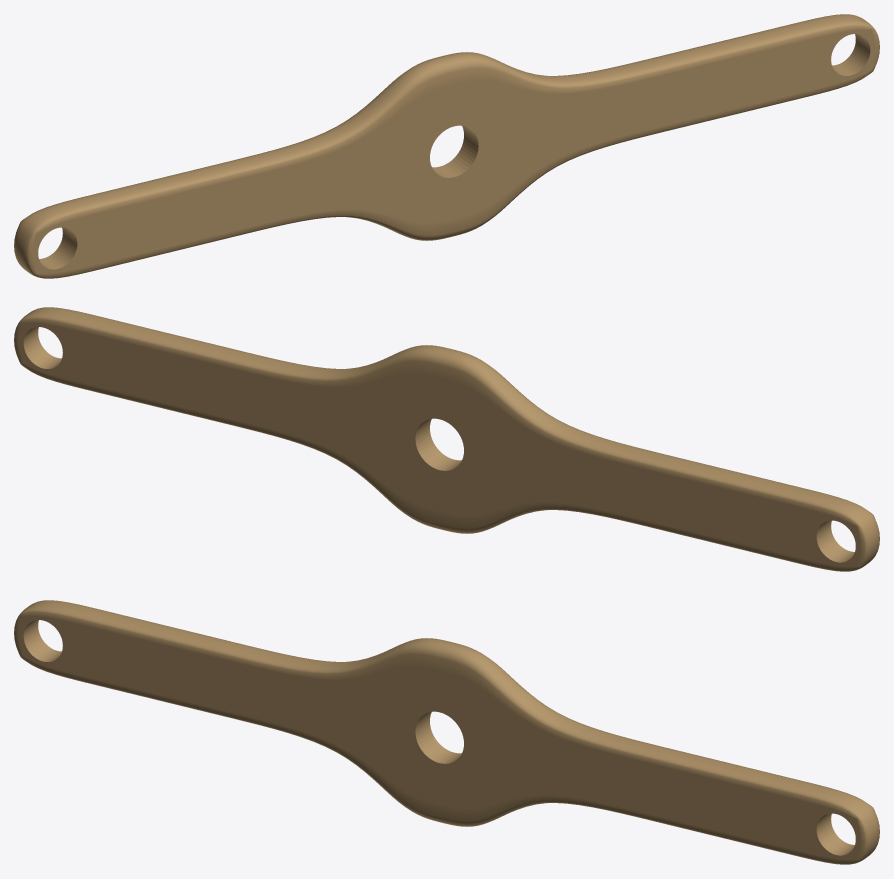
The model's file is pivot beam.glb.
3 renders of one model, top to bottom at view 1: azimuth 30°, elevation 25°; view 2: azimuth 150°, elevation 25°; view 3: azimuth 330°, elevation 25°, orthographic.
Parts seen in each view (by area): view 1: pivot_beam; view 2: pivot_beam; view 3: pivot_beam.
Part boxes in pixels (x1,y1,x2,y2): pivot_beam: [14, 14, 879, 278]; pivot_beam: [14, 307, 879, 571]; pivot_beam: [14, 600, 879, 864].
Size of the model in its own units: 9.54 by 1.89 by 0.28.
